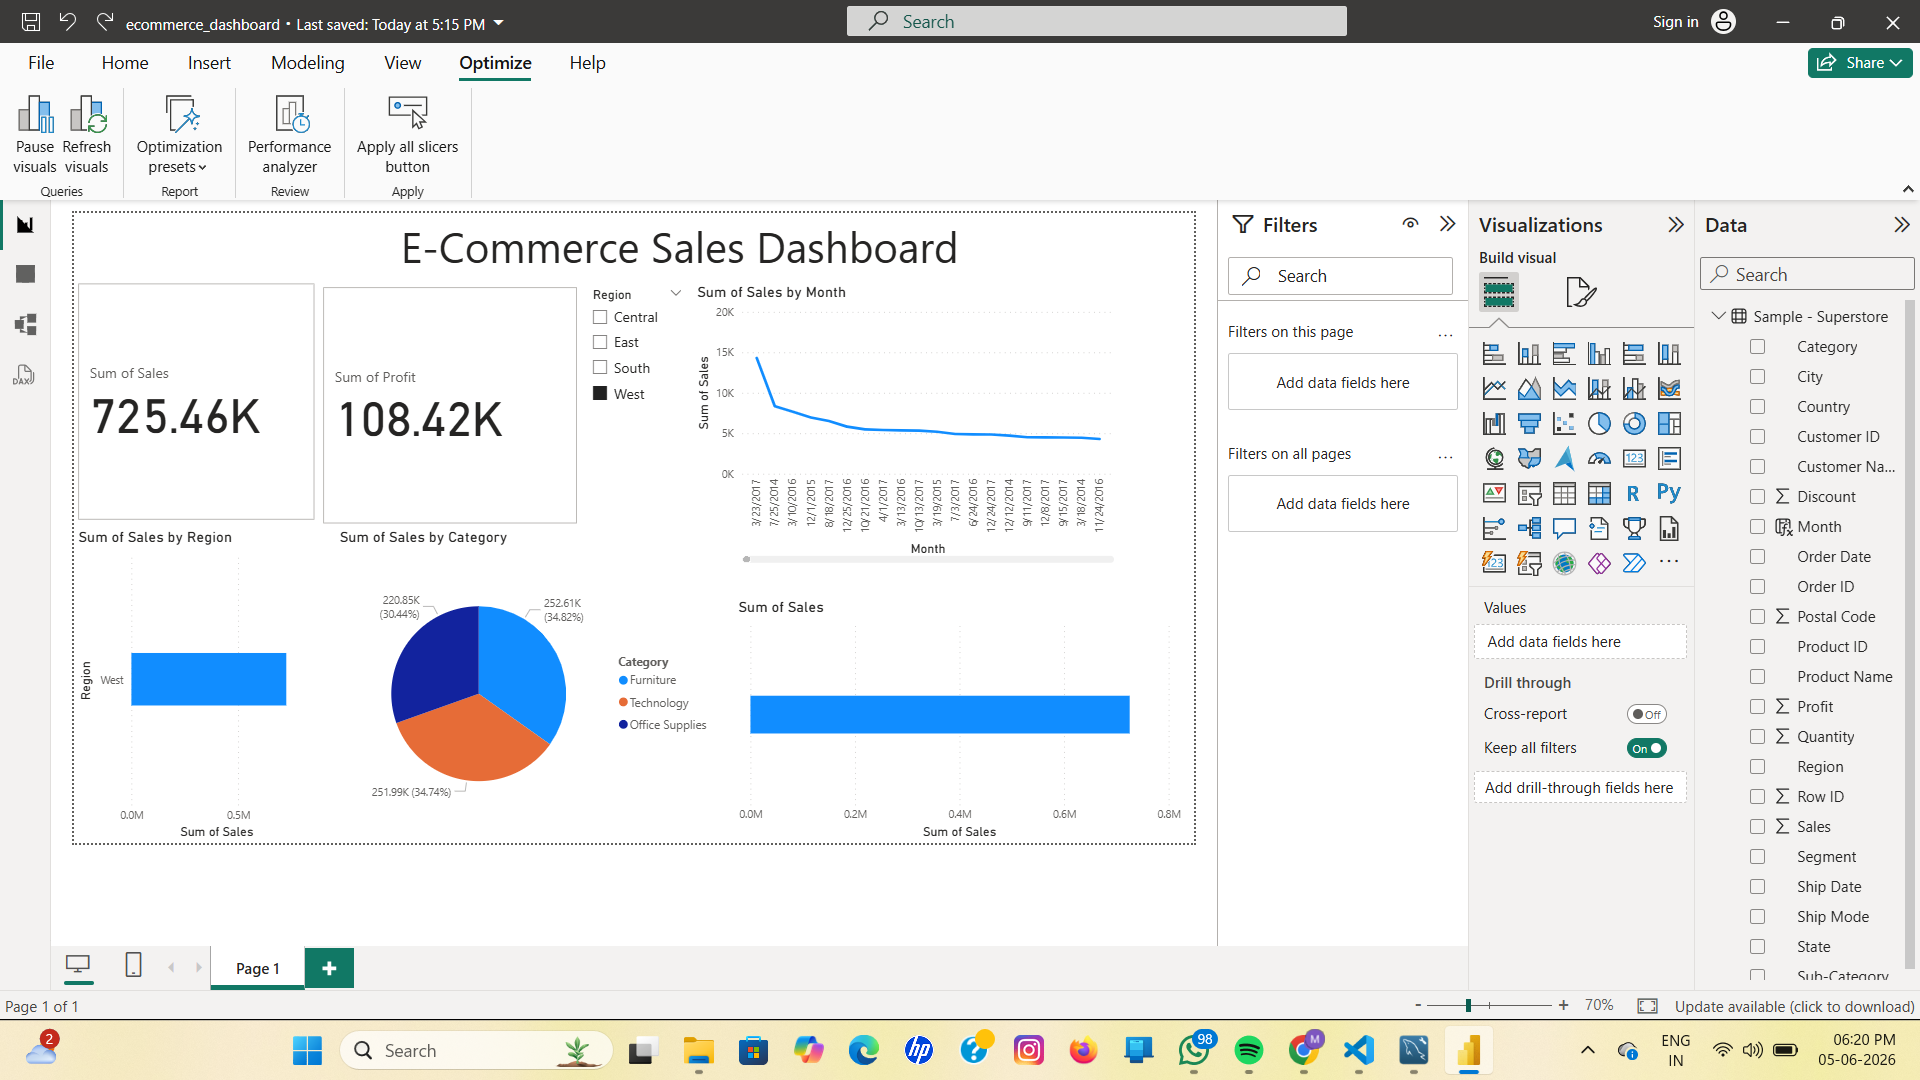

What the dashboard file says about the page in this screenshot:
{"tool":"powerbi","page":{"name":"Page 1","canvas":[1280,720],"ordinal":0},"visuals":[{"type":"cardVisual","fields":{"Data":["Sum(Sample - Superstore.Sales)"]},"box":[0,113.9,279.9,279.9],"z":0},{"type":"cardVisual","fields":{"Data":["Sum(Sample - Superstore.Profit)"]},"box":[278.6,116.6,300.5,279.9],"z":1000},{"type":"clusteredBarChart","fields":{"Category":["Sample - Superstore.Region"],"Y":["Sum(Sample - Superstore.Sales)"]},"box":[0,396.6,279.9,279.9],"z":2000},{"type":"clusteredBarChart","fields":{"Y":["Sum(Sample - Superstore.Sales)"]},"box":[754.7,440.5,516,279.9],"z":3000},{"type":"pieChart","fields":{"Category":["Sample - Superstore.Category"],"Y":["Sum(Sample - Superstore.Sales)"]},"box":[299.1,396.6,407.5,323.8],"z":4000},{"type":"lineChart","fields":{"Category":["Sample - Superstore.Month"],"Y":["Sum(Sample - Superstore.Sales)"]},"box":[768.4,107,487.1,323.8],"z":5000},{"type":"slicer","fields":{"Values":["Sample - Superstore.Region"]},"box":[599.7,178.4,127.6,150.9],"z":6000},{"type":"textbox","box":[91.9,38.4,1188.3,61.7],"z":7000}]}

Visuals, with their boxes on the page's 1280x720 design canvas (x1, y1, x2, y2). These are canvas units, not pixel positions in the 1920x1080 screenshot, which may show the page scaled, cropped or inside an application window:
cardVisual - Sum(Sample - Superstore.Sales): (0, 114, 280, 394)
cardVisual - Sum(Sample - Superstore.Profit): (279, 117, 579, 396)
clusteredBarChart - Sample - Superstore.Region x Sum(Sample - Superstore.Sales): (0, 397, 280, 676)
clusteredBarChart - Sum(Sample - Superstore.Sales): (755, 440, 1271, 720)
pieChart - Sample - Superstore.Category x Sum(Sample - Superstore.Sales): (299, 397, 707, 720)
lineChart - Sample - Superstore.Month x Sum(Sample - Superstore.Sales): (768, 107, 1256, 431)
slicer - Sample - Superstore.Region: (600, 178, 727, 329)
textbox: (92, 38, 1280, 100)
